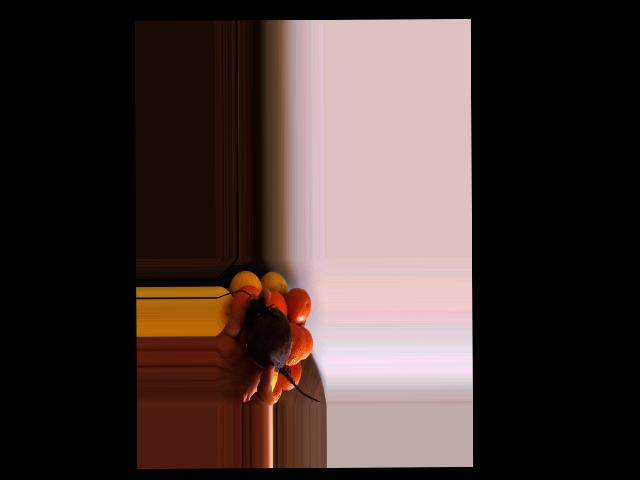beet: (246, 298, 319, 402)
